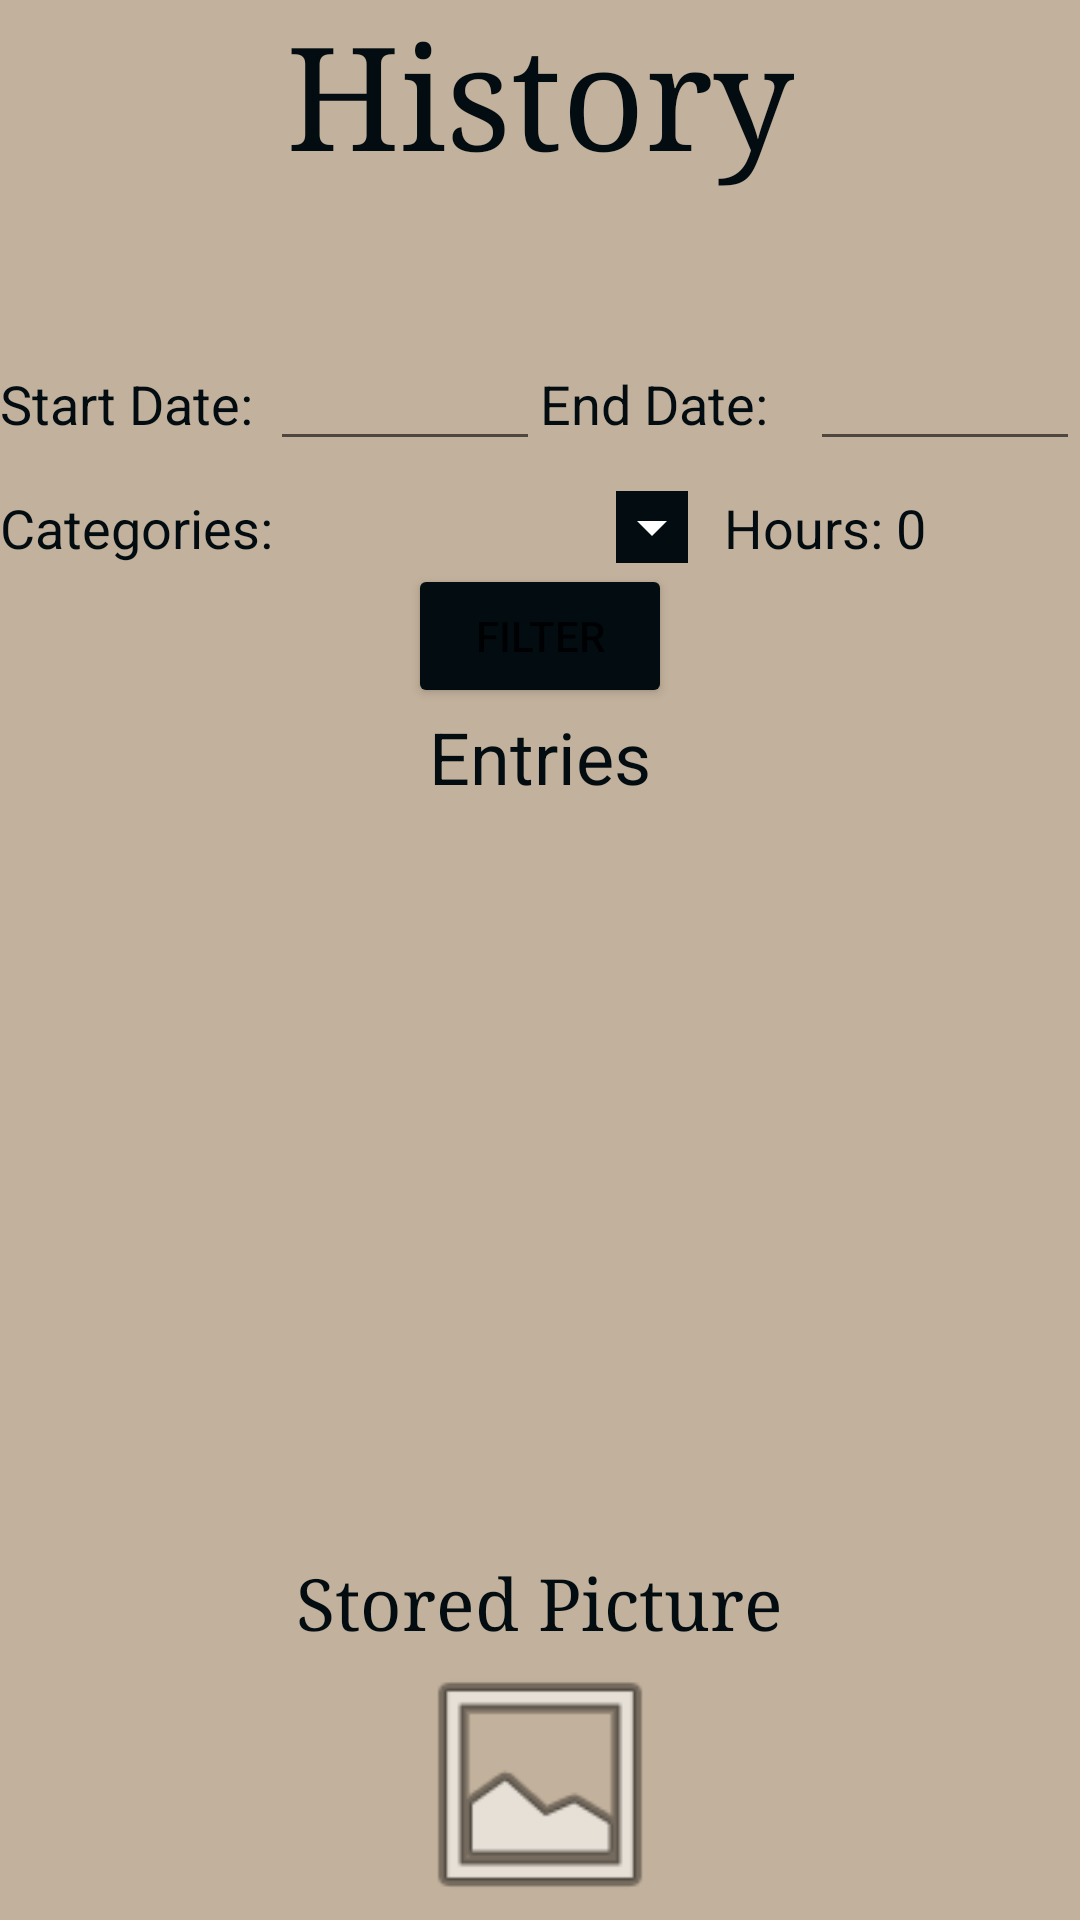

Point at icon controls on the screen. Image size 1080px×1920px, points as [x,y].
gallery: [540,1784]
